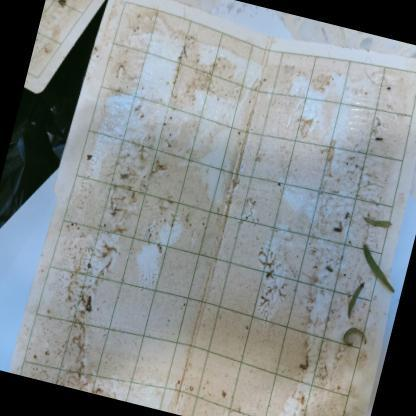prays_oleae: (322, 261, 338, 276), (330, 224, 347, 238), (53, 0, 71, 11), (373, 135, 385, 147)
